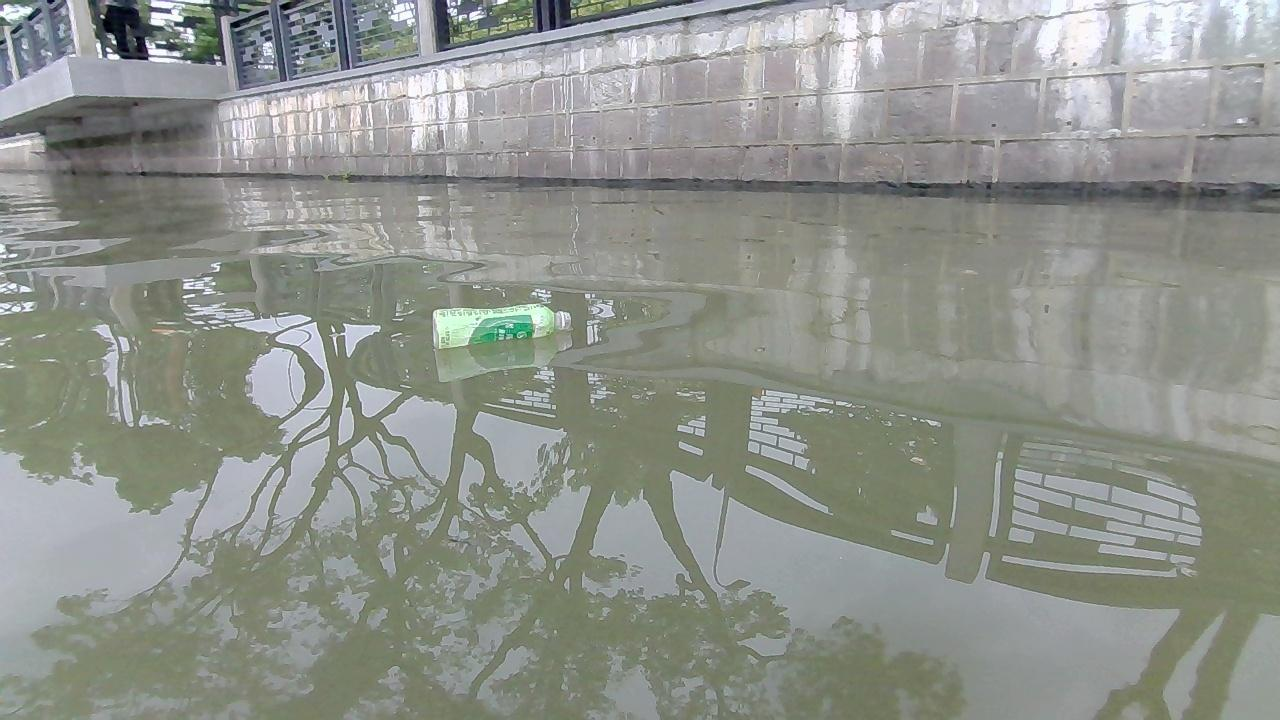bottle: (428, 301, 565, 346)
